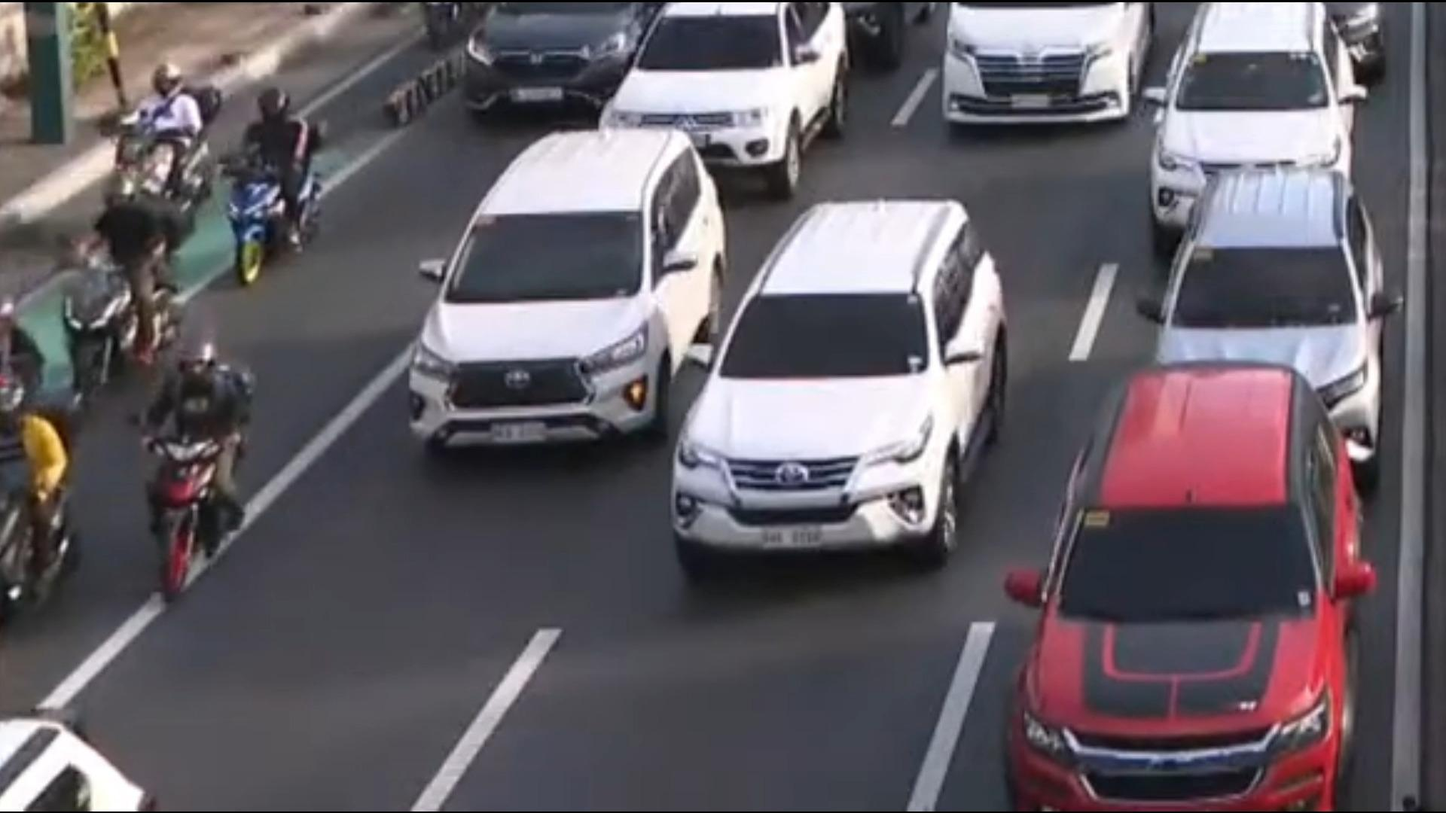Motorcycle: (122, 322, 260, 614), (53, 199, 179, 397), (215, 81, 324, 290), (0, 371, 77, 630), (115, 62, 213, 245)
SUV: (1009, 365, 1382, 813), (678, 199, 1009, 574), (418, 136, 727, 467), (1156, 169, 1393, 487), (1141, 6, 1363, 235), (610, 0, 845, 186)
Sedan: (446, 0, 651, 115)
Van: (940, 2, 1156, 130)
